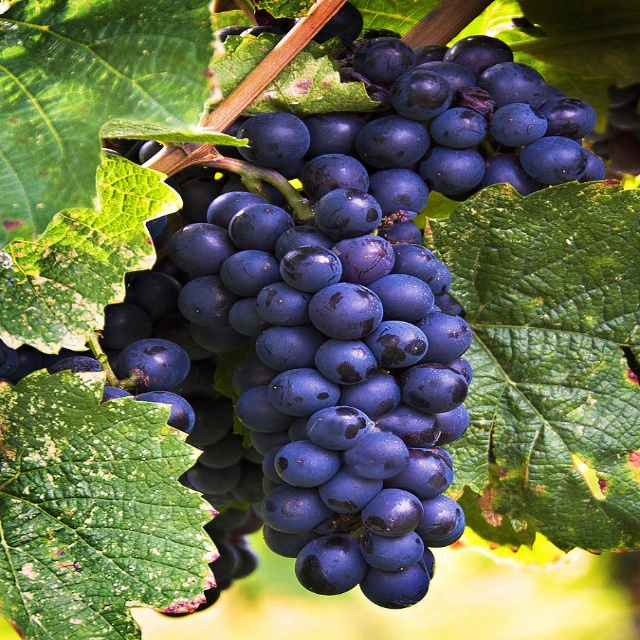grape: (174, 106, 476, 616)
